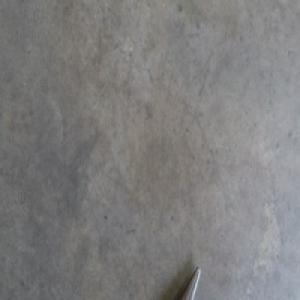Pliers: (179, 267, 202, 298)
